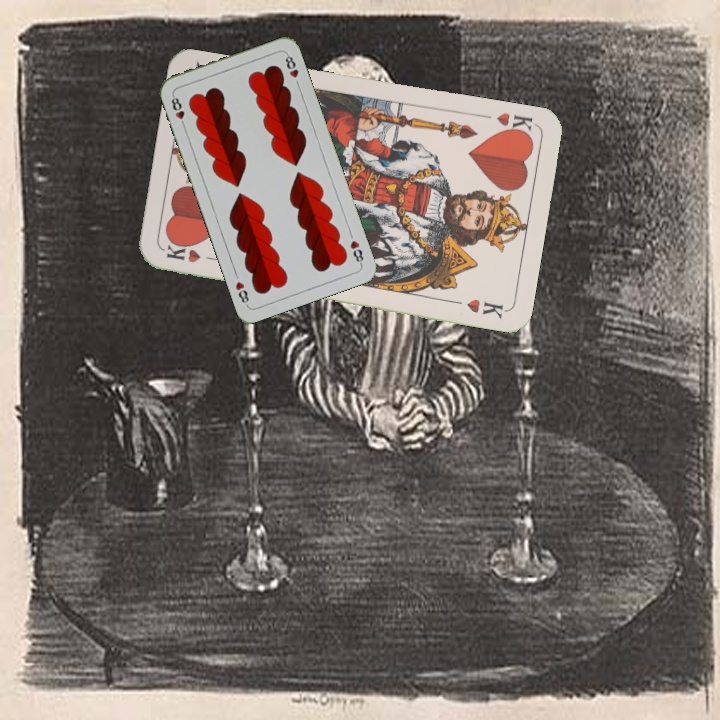H8: (167, 91, 188, 130), (346, 236, 366, 267)
HK: (162, 240, 221, 266), (492, 108, 535, 140)
